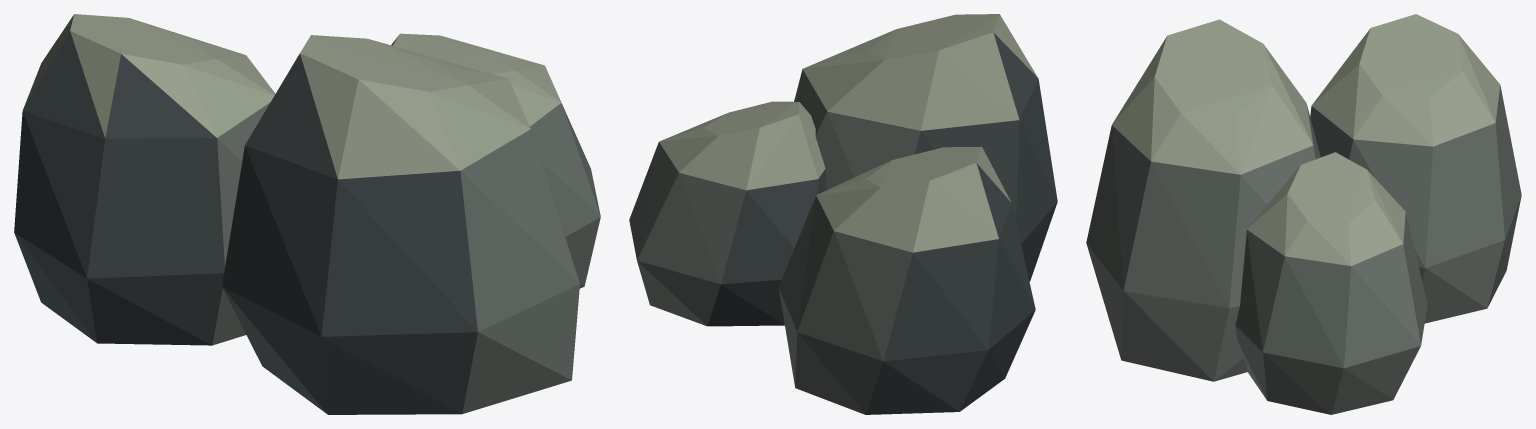
File: TW_ROCK_CLUSTER_SMALL_A_LOD0.glb
3 renders of one model, left to right at view 1: azimuth 30°, elevation 25°; view 2: azimuth 150°, elevation 25°; view 3: azimuth 270°, elevation 25°, orthographic. The views are drawn at different scales.
Visible parts, largest first — view 1: TW_ROCK_CLUSTER_SMALL_A_LOD0; view 2: TW_ROCK_CLUSTER_SMALL_A_LOD0; view 3: TW_ROCK_CLUSTER_SMALL_A_LOD0.
Part boxes in pixels (left/top/right/bottom): TW_ROCK_CLUSTER_SMALL_A_LOD0: left=14, top=14, right=600, bottom=414; TW_ROCK_CLUSTER_SMALL_A_LOD0: left=629, top=14, right=1057, bottom=414; TW_ROCK_CLUSTER_SMALL_A_LOD0: left=1086, top=14, right=1521, bottom=414.
Bounding box in the file's own units: 1.34 × 0.8293 × 1.25.
Materials: 1 (1 with a texture image).
